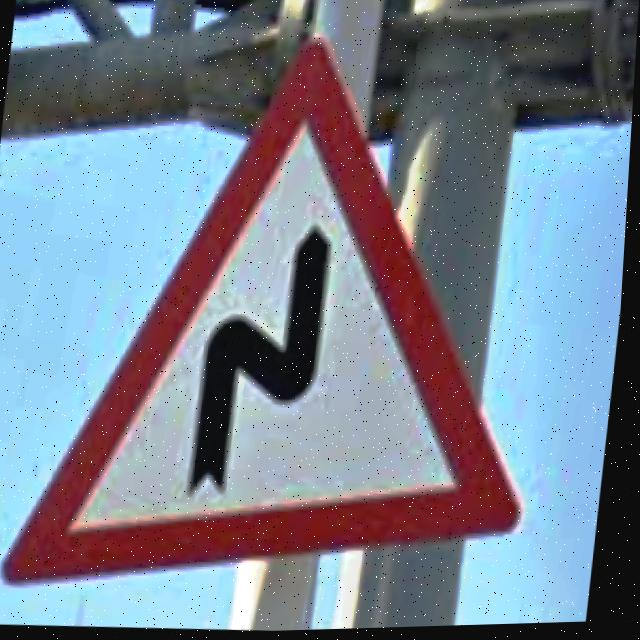doublebendright: (9, 39, 526, 585)
